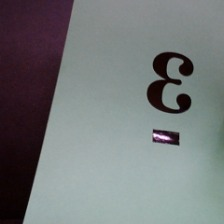green3: (143, 44, 197, 147)
